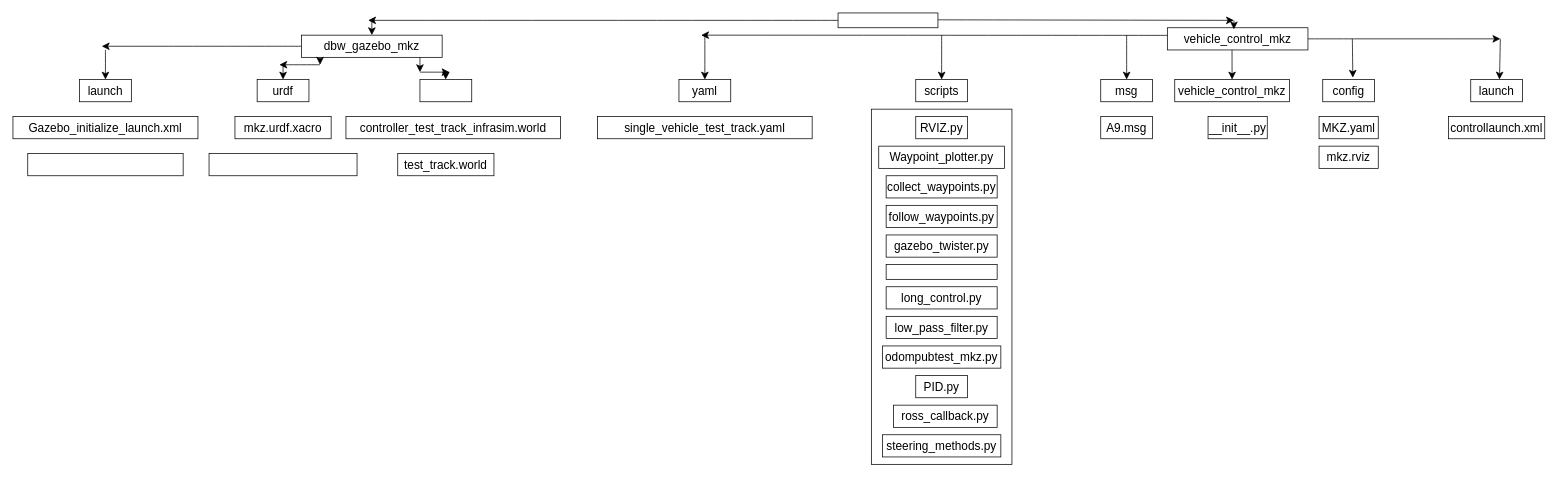
This 1558x477 diagram has some shape labels left out. Here are the shapes that lost their labels. From the top down, the centre of each, then its label:
At point 887,20: "Packages".
At point 445,90: "worlds".
At point 105,164: "generic_dbw_mkz.launch.xml".
At point 282,164: "vehicle_sensors.urdf.xacro".
At point 941,271: "lat_control.py".
